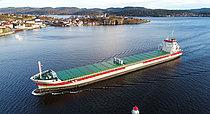Ship: (33, 36, 185, 96)
